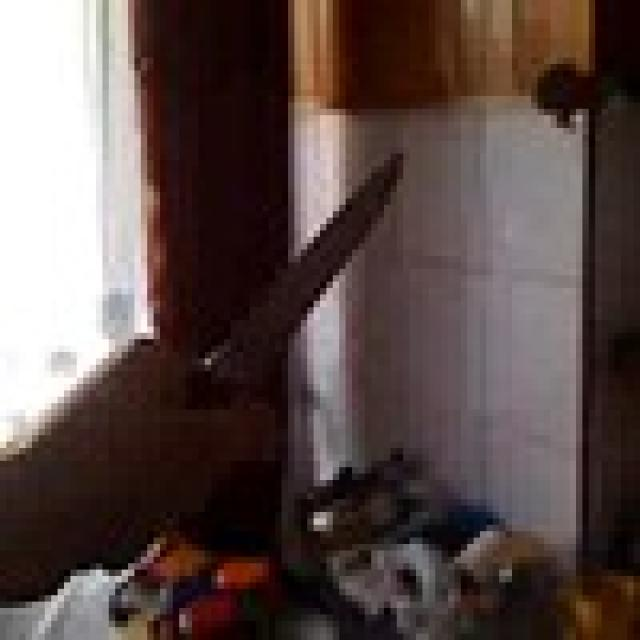Knife: (178, 140, 402, 428)
